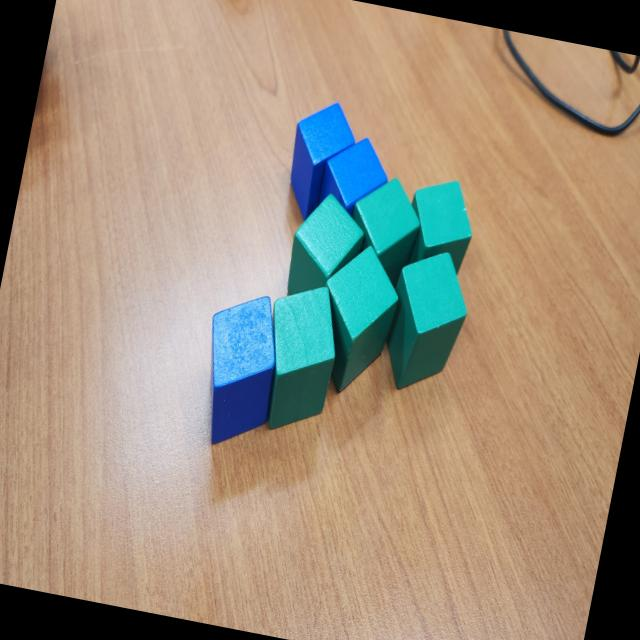blue: (188, 286, 292, 456), (280, 96, 364, 230), (316, 130, 396, 224)
green: (304, 238, 407, 402), (249, 276, 349, 440), (376, 244, 478, 401), (336, 170, 431, 294), (282, 188, 372, 312), (398, 172, 482, 280)
